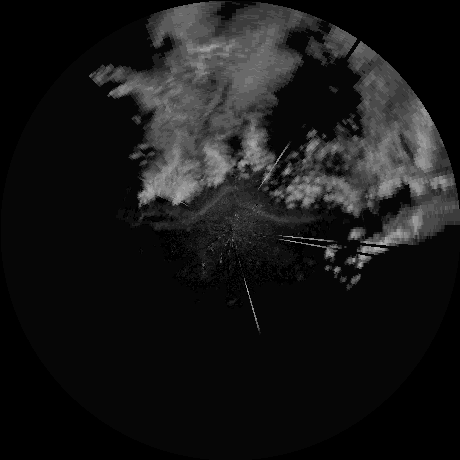frontgust: (145, 181, 261, 230), (245, 199, 320, 225)
